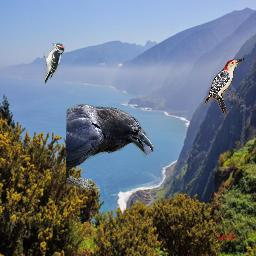Crow: (66, 104, 154, 191)
Woodpecker: (204, 58, 244, 115), (43, 42, 65, 84)
